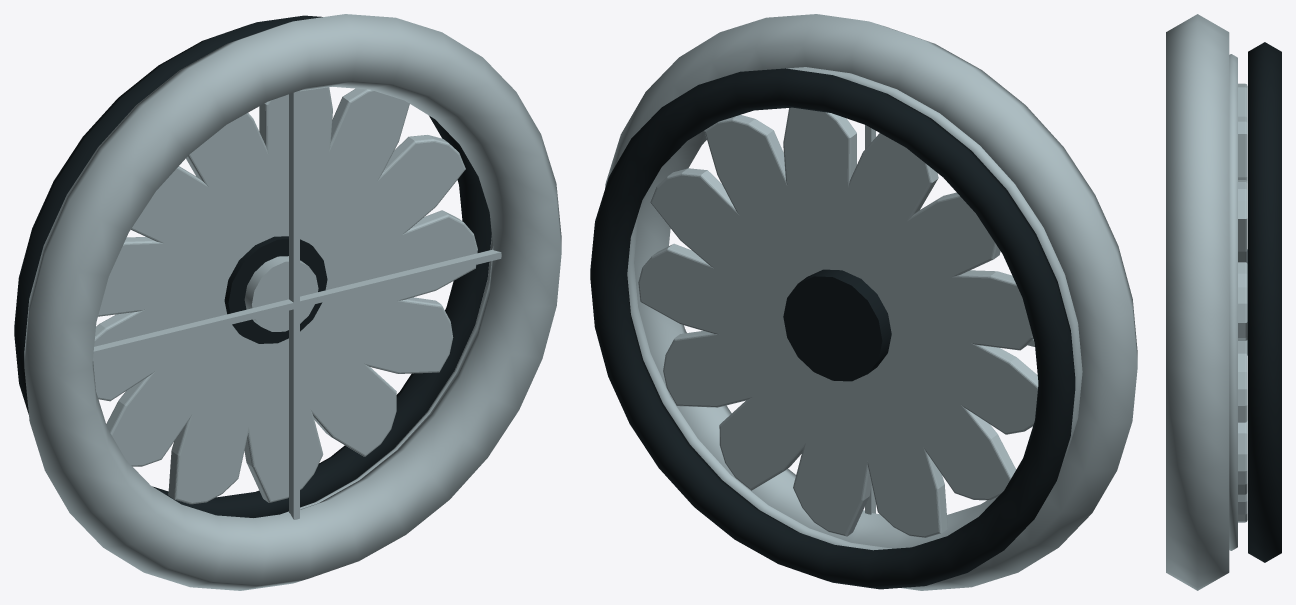
File: gpu-fan-server.glb
3 views of the same model, side by side, from view 1: azimuth 30°, elevation 25°; view 2: azimuth 150°, elevation 25°; view 3: azimuth 270°, elevation 25° (orthographic). The views are drawn at different scales.
Visible parts, largest first — view 1: gpu-fan-server, gpu-fan-rotor; view 2: gpu-fan-server, gpu-fan-rotor; view 3: gpu-fan-server, gpu-fan-rotor.
Boxes of the visible parts, <box> form: gpu-fan-server: <box>14,14,561,590</box>; gpu-fan-rotor: <box>93,87,477,504</box>; gpu-fan-server: <box>590,14,1137,590</box>; gpu-fan-rotor: <box>638,107,1038,537</box>; gpu-fan-server: <box>1166,14,1281,590</box>; gpu-fan-rotor: <box>1238,83,1247,522</box>.
Bounding box in the file's own units: 1.03 × 1.03 × 0.2066.
